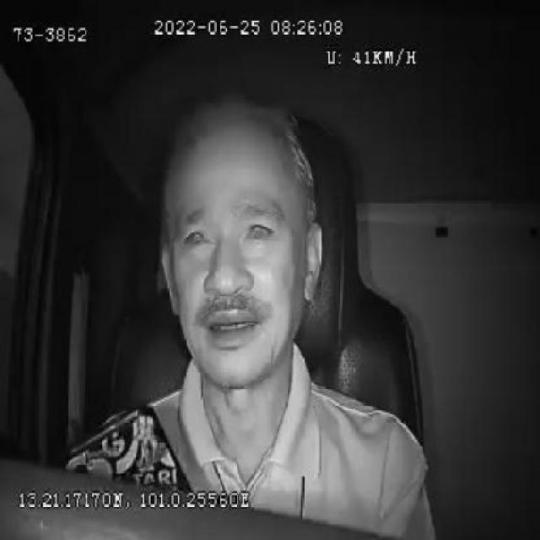phone: (61, 406, 190, 490)
